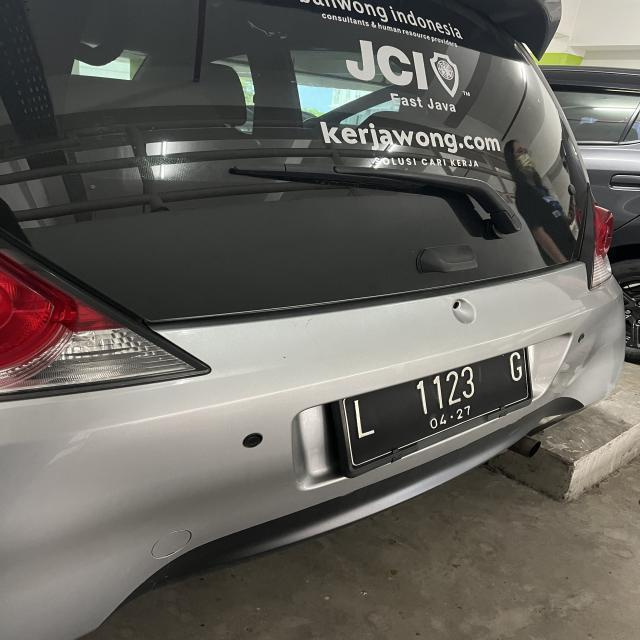1: (414, 378, 432, 418), (432, 374, 443, 414)
2: (444, 371, 460, 404)
3: (462, 366, 476, 401)
G: (508, 351, 526, 383)
L: (351, 398, 376, 441)
